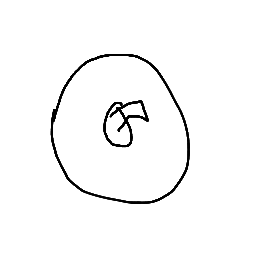apple: (1, 1, 255, 255)
